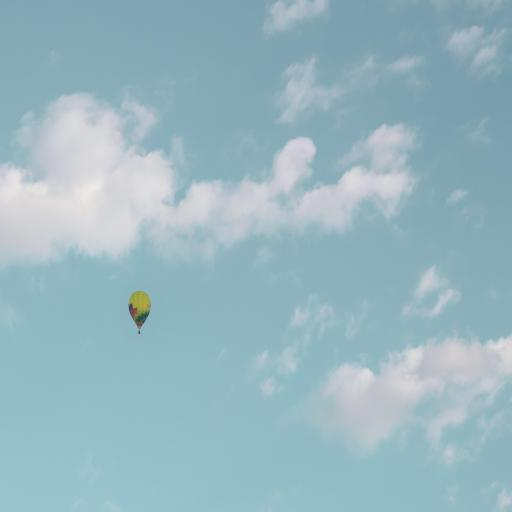hot air ballon: (127, 287, 152, 338)
